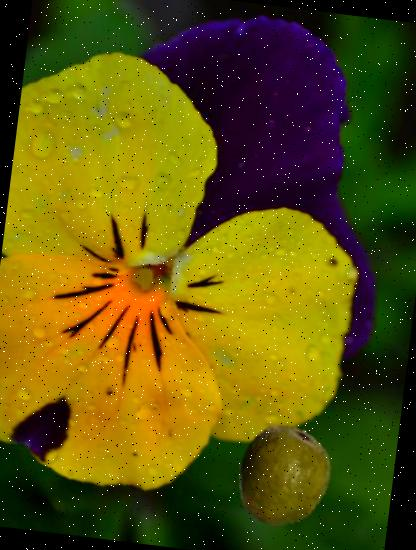Guava: (224, 418, 340, 534)
